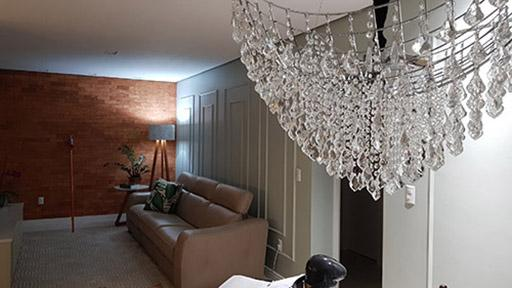Vara_Manobra: (69, 148, 76, 234)
